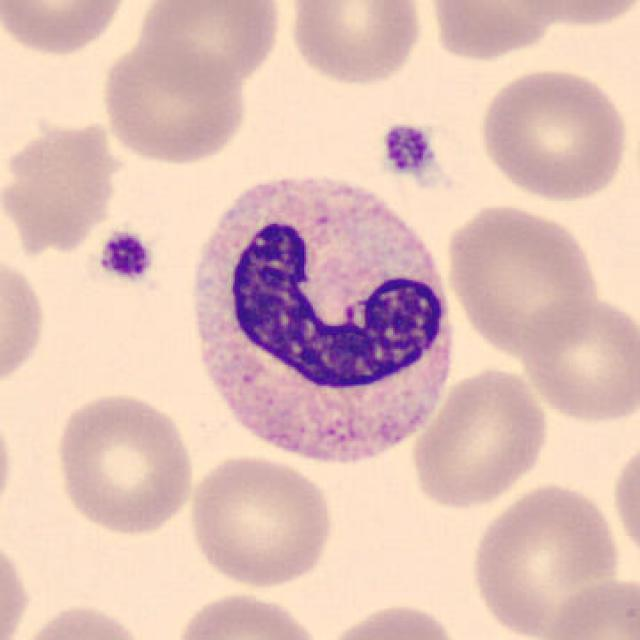Neutrophil: (176, 161, 464, 483)
Platelets: (378, 120, 436, 181), (96, 227, 156, 284)
RBC: (441, 198, 603, 360), (466, 480, 628, 638), (473, 64, 633, 204), (50, 388, 197, 538), (183, 451, 338, 591), (407, 363, 553, 511), (96, 37, 251, 166), (0, 115, 120, 267), (518, 293, 638, 427), (133, 0, 284, 92), (283, 0, 427, 90), (423, 0, 564, 62), (169, 587, 327, 640), (0, 0, 133, 58), (0, 249, 50, 393), (539, 573, 638, 640), (9, 597, 155, 640), (318, 599, 466, 640), (503, 0, 640, 30), (610, 436, 640, 568), (0, 529, 34, 640), (0, 398, 18, 532)
